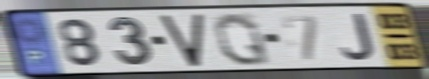3: (107, 14, 154, 69)
7: (282, 14, 320, 61)
8: (57, 17, 104, 69)
J: (339, 12, 377, 62)
Q: (211, 11, 274, 68)
V: (158, 11, 205, 69)
